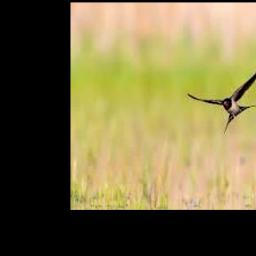Swallow: (186, 62, 256, 130)
